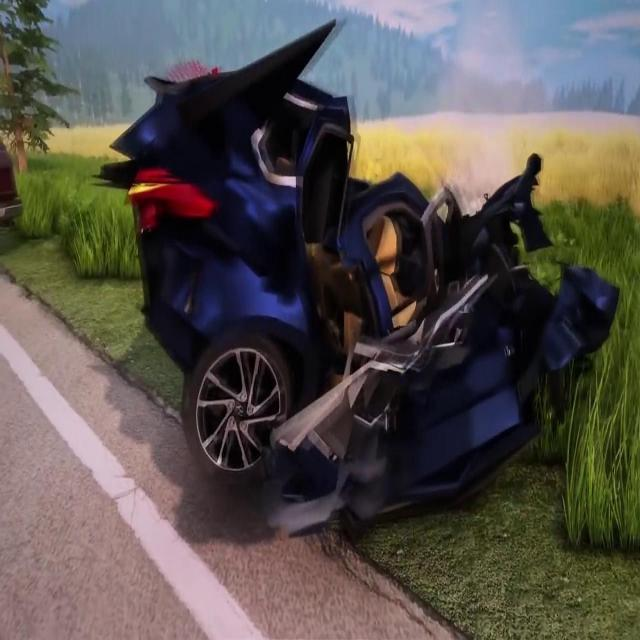severe: (90, 11, 625, 544)
